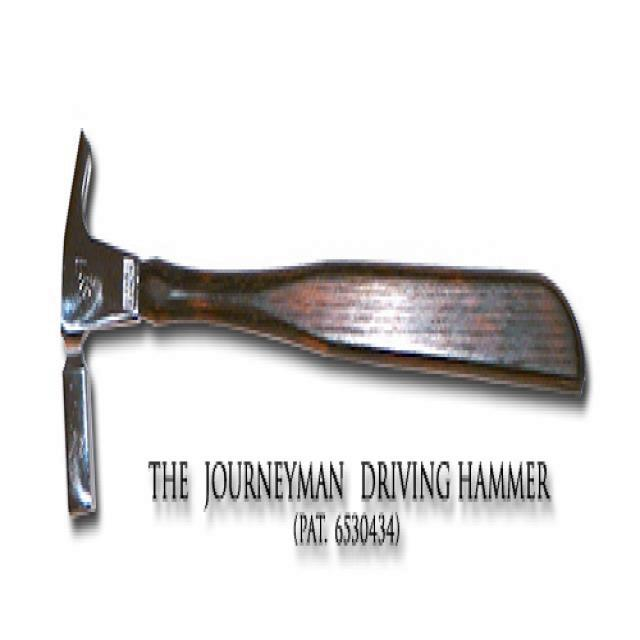hammer: (46, 86, 595, 544)
